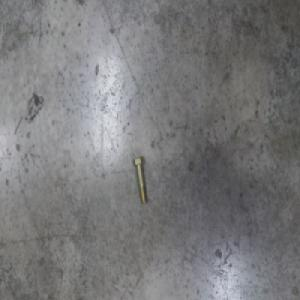Bolt: (132, 154, 147, 204)
